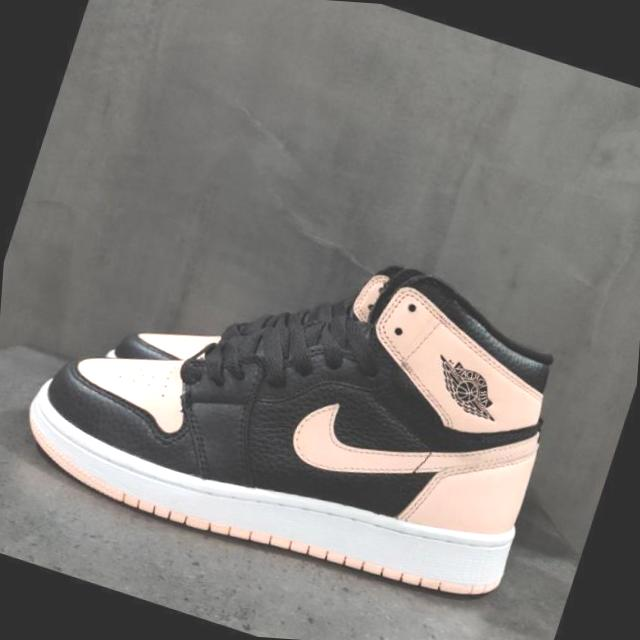nike_fake_jordan: (0, 159, 595, 632)
